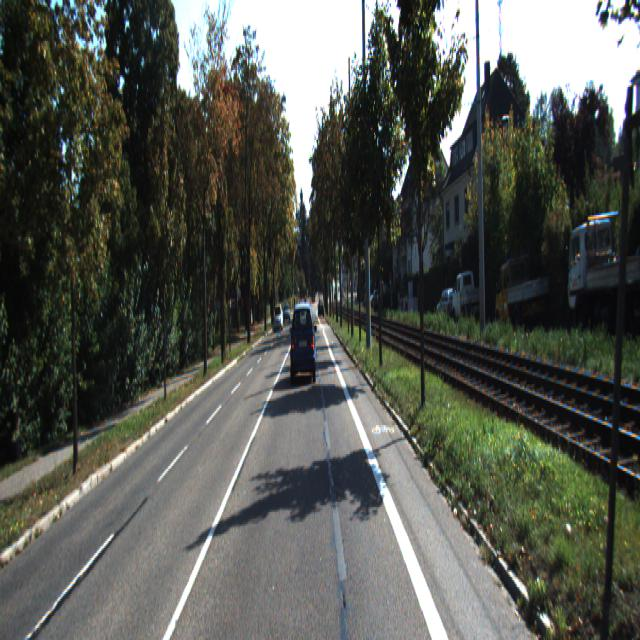Car: (567, 201, 639, 342), (494, 255, 550, 334), (289, 299, 316, 385), (452, 270, 484, 322), (438, 290, 460, 324), (274, 304, 284, 334)
